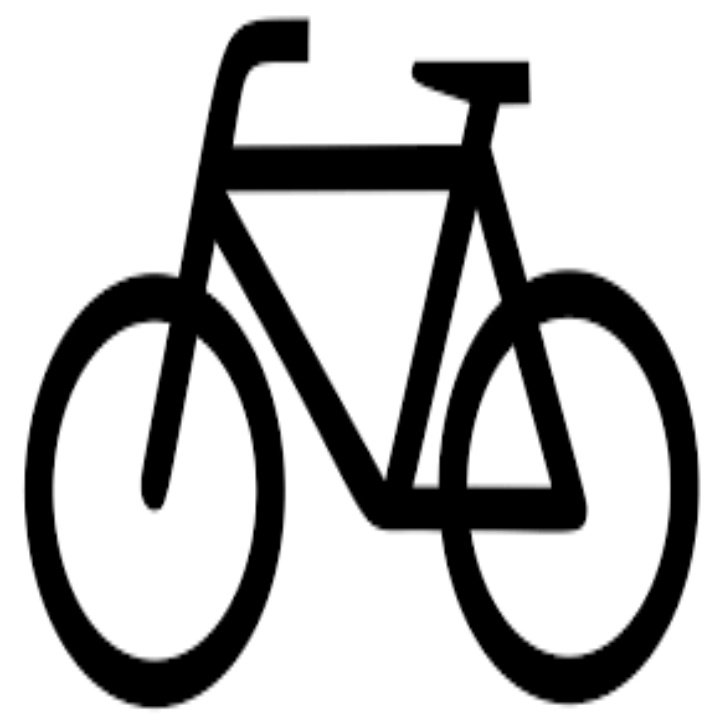bicycle: (21, 17, 701, 711)
